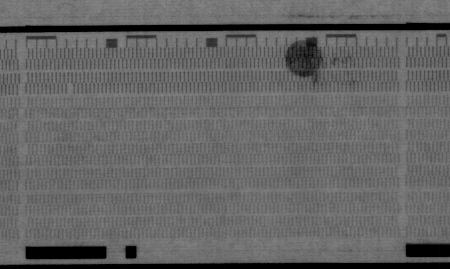Broken hole: (64, 84, 77, 95)
